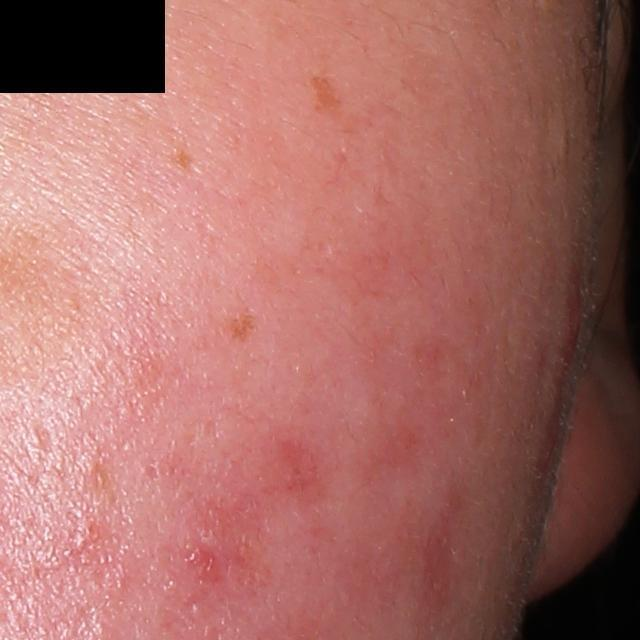melasma: (303, 74, 346, 127), (226, 314, 263, 347), (167, 148, 191, 176)
